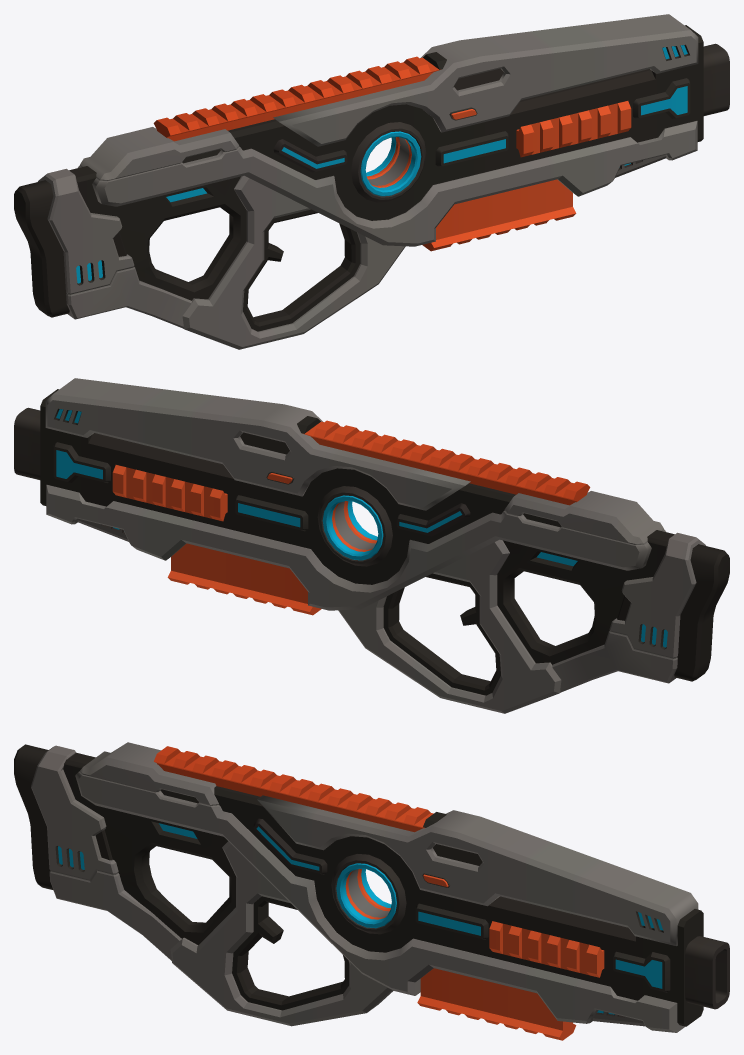
3 views of the same model, one above another, from view 1: azimuth 30°, elevation 25°; view 2: azimuth 150°, elevation 25°; view 3: azimuth 330°, elevation 25° (orthographic).
Parts seen in each view (by area): view 1: AR10_Base; view 2: AR10_Base; view 3: AR10_Base.
Part boxes in pixels (<box>): AR10_Base: <box>14,14,729,349</box>; AR10_Base: <box>14,378,729,713</box>; AR10_Base: <box>14,742,729,1040</box>.
Size of the model in its own units: 62.35 by 20.32 by 5.29.
